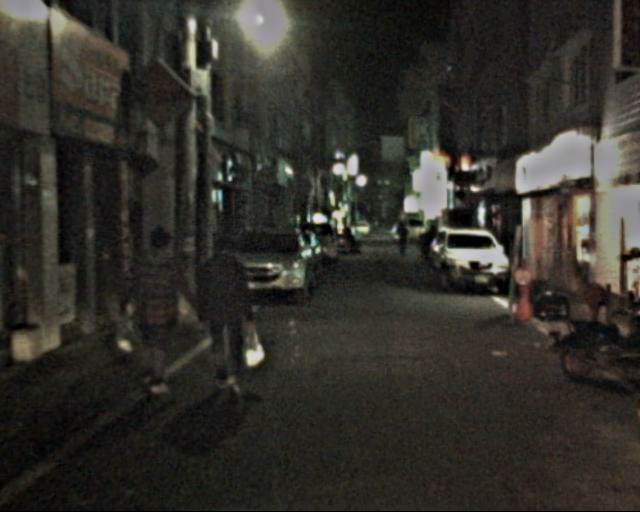person: (114, 224, 186, 396), (192, 237, 256, 394), (396, 222, 411, 258)
